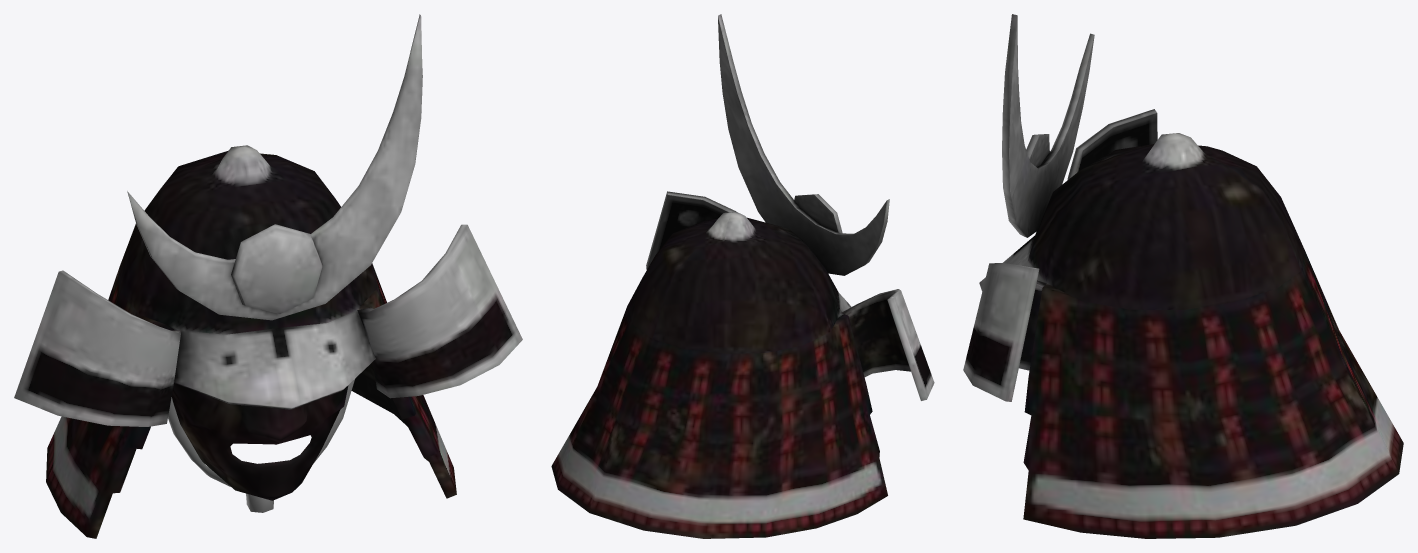
The model's file is helmet-championdojosoldiers.glb.
3 renders of one model, left to right at view 1: azimuth 30°, elevation 25°; view 2: azimuth 150°, elevation 25°; view 3: azimuth 270°, elevation 25°, orthographic. The views are drawn at different scales.
Bounding box in the file's own units: 0.4717 × 0.5353 × 0.4227.
1 material, 1 textured.
